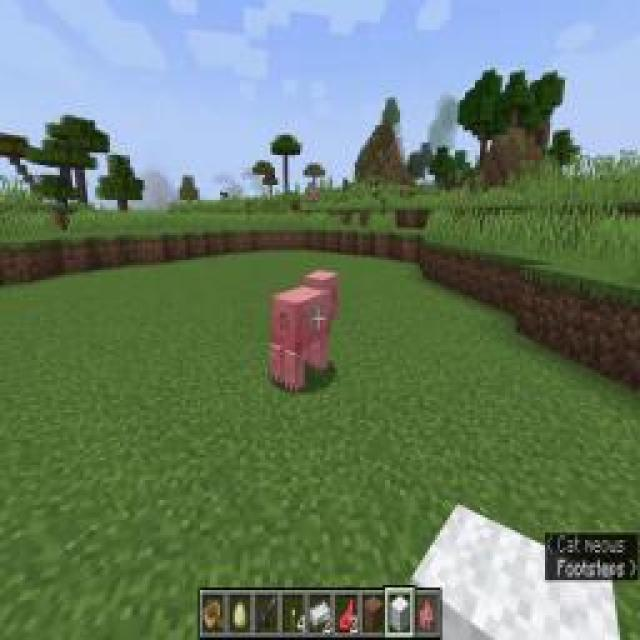Pig: (269, 265, 341, 397)
